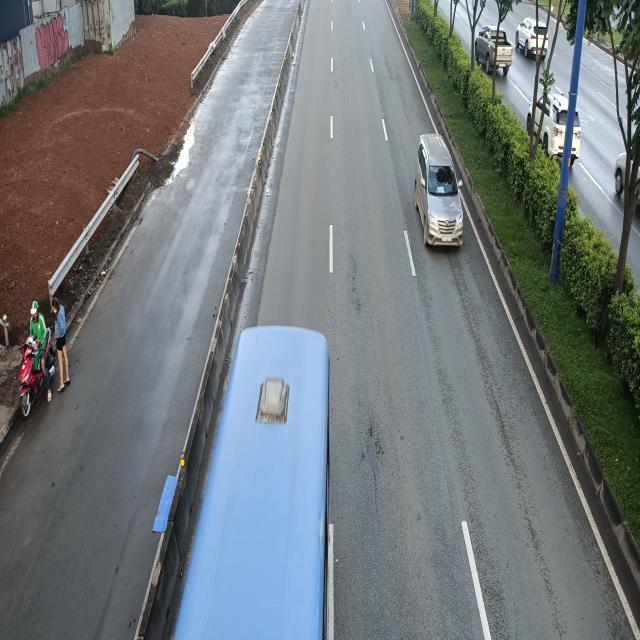car: (416, 134, 464, 249)
coach: (175, 323, 331, 640)
